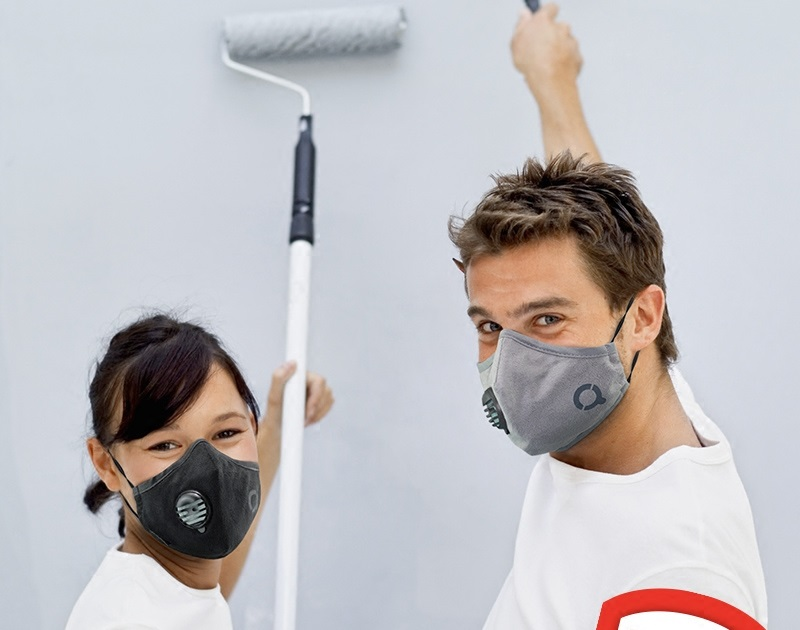face_mask: (464, 234, 622, 442), (113, 363, 260, 545)
